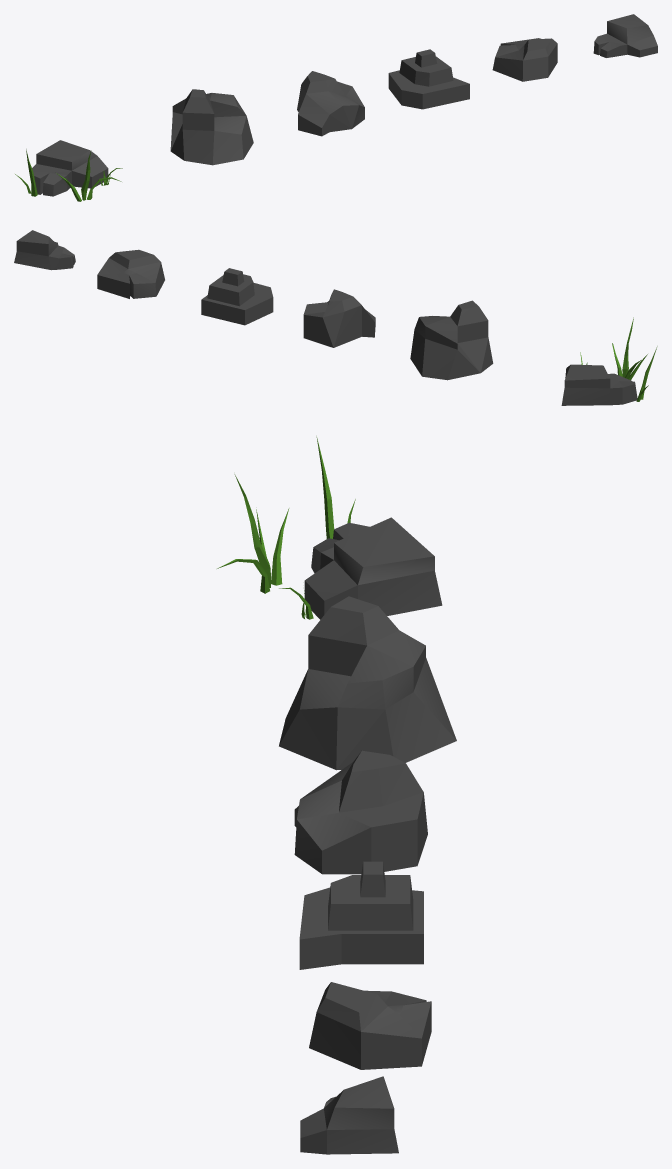
The model's file is Rock Package.fbx.
3 views of the same model, one above another, from view 1: azimuth 30°, elevation 25°; view 2: azimuth 150°, elevation 25°; view 3: azimuth 270°, elevation 25° (orthographic). The views are drawn at different scales.
Visible parts, largest first — view 1: Rock.002, Rock, Rock.005, Rock.003, Rock.001, Rock.004; view 2: Rock.002, Rock, Rock.003, Rock.005, Rock.001, Rock.004; view 3: Rock.002, Rock.003, Rock, Rock.005, Rock.001, Rock.004.
Boxes of the visible parts, <box> form: Rock.002: <box>170,89,253,165</box>; Rock: <box>15,140,122,201</box>; Rock.005: <box>388,49,469,109</box>; Rock.003: <box>297,71,364,136</box>; Rock.001: <box>492,38,557,81</box>; Rock.004: <box>593,14,657,57</box>; Rock.002: <box>410,300,493,380</box>; Rock: <box>561,317,657,405</box>; Rock.003: <box>303,289,375,347</box>; Rock.005: <box>201,268,273,325</box>; Rock.001: <box>97,249,164,298</box>; Rock.004: <box>14,230,75,270</box>; Rock.002: <box>279,596,456,770</box>; Rock.003: <box>294,750,427,874</box>; Rock: <box>217,436,442,619</box>; Rock.005: <box>299,861,423,969</box>; Rock.001: <box>309,982,431,1069</box>; Rock.004: <box>300,1076,398,1154</box>.
Bounding box in the file's own units: 617 × 54.4 × 103.
